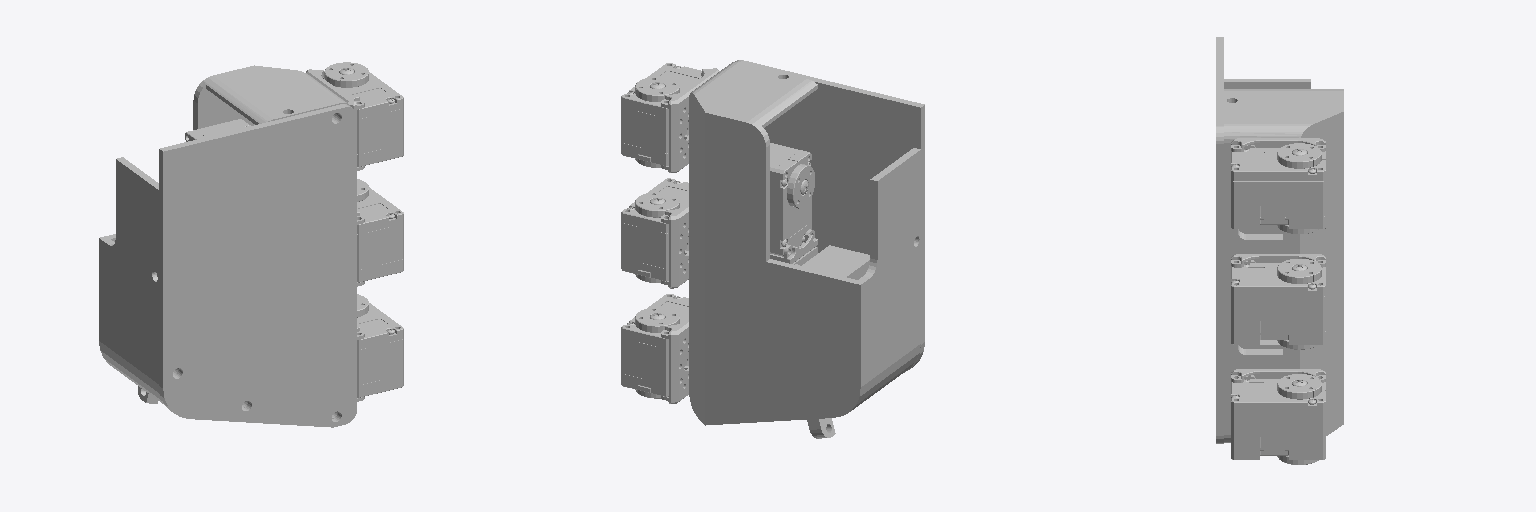
The model's file is palm_lower.obj.
3 renders of one model, left to right at view 1: azimuth 30°, elevation 25°; view 2: azimuth 150°, elevation 25°; view 3: azimuth 270°, elevation 25°, orthographic.
Visible parts, largest first — view 1: palm_lower; view 2: palm_lower; view 3: palm_lower.
Part boxes in pixels (x1,y1,x2,y2): palm_lower: (99, 62, 403, 427); palm_lower: (621, 60, 924, 438); palm_lower: (1216, 37, 1343, 464).
Bounding box in the file's own units: 0.103 × 0.1257 × 0.046.